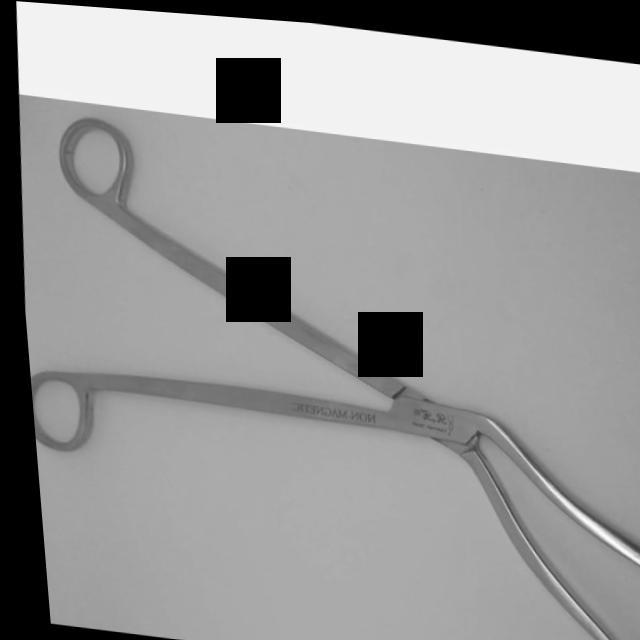Cheatle Forceps: (7, 107, 640, 640)
